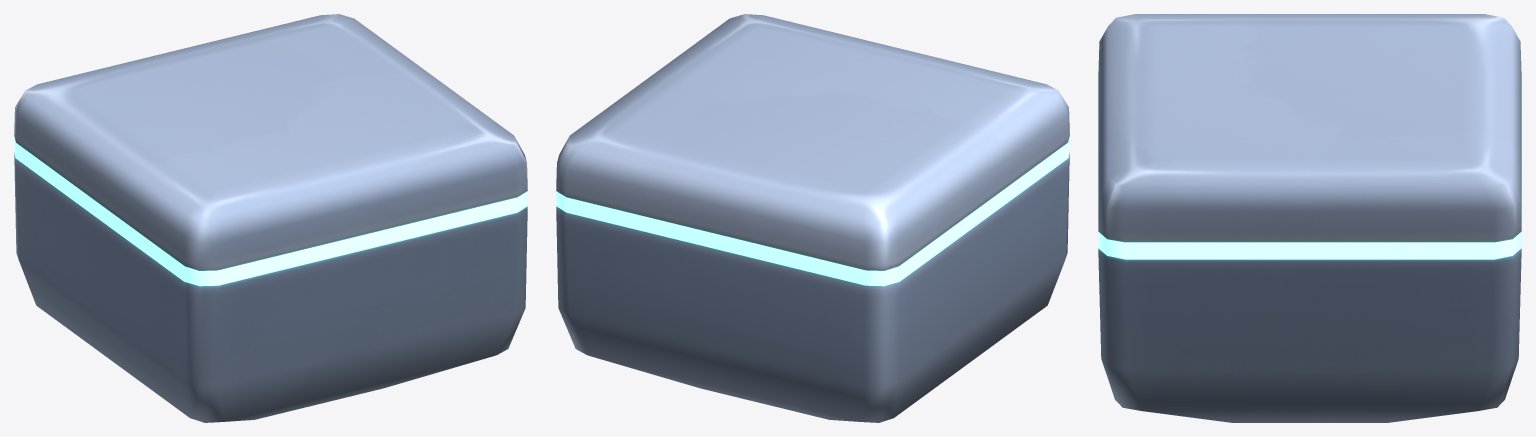
The model's file is obj_stool01.gltf.
3 views of the same model, side by side, from view 1: azimuth 30°, elevation 25°; view 2: azimuth 150°, elevation 25°; view 3: azimuth 270°, elevation 25° (orthographic). The views are drawn at different scales.
Visible parts, largest first — view 1: obj_stool01; view 2: obj_stool01; view 3: obj_stool01.
Part boxes in pixels (x1,y1,x2,y2): obj_stool01: (14,14,527,422); obj_stool01: (556,14,1069,422); obj_stool01: (1098,14,1521,422).
Size of what is drawn, in the model's own units: 0.6091 by 0.4413 by 0.5969.
Materials: 2 (1 with a texture image).
